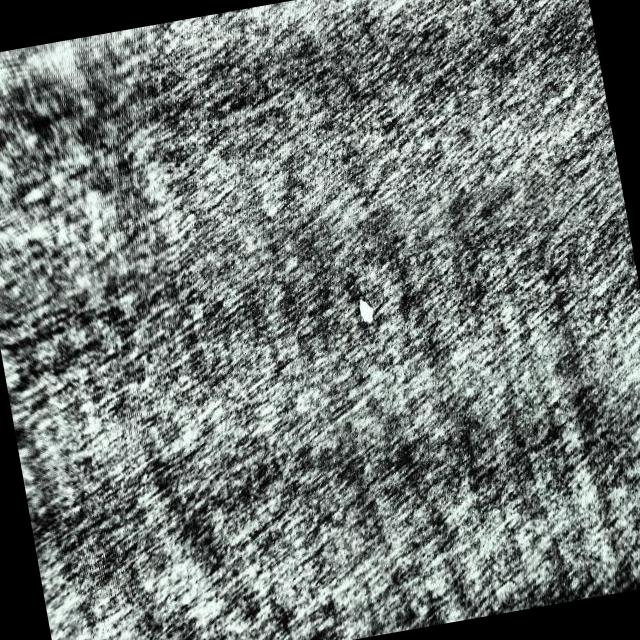cut: (344, 287, 387, 338)
